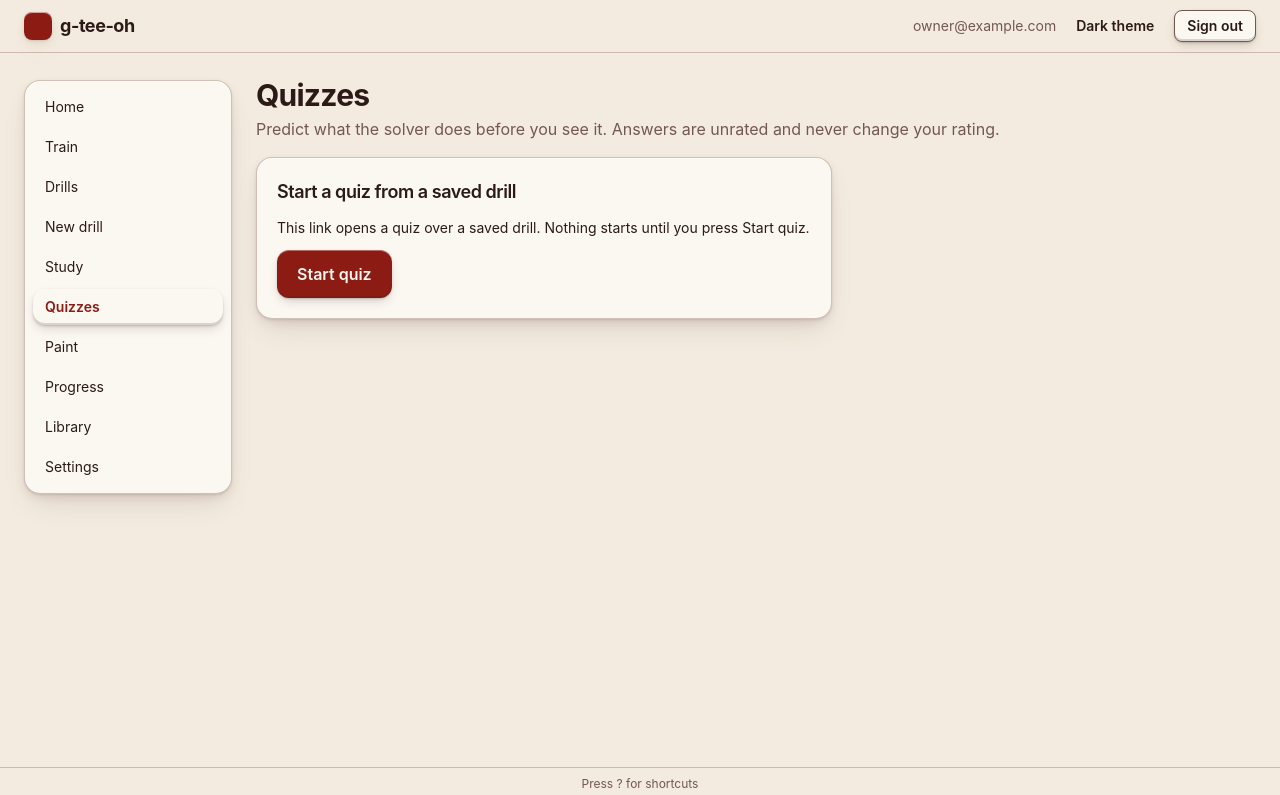
R3.16 /quiz renders each answer kind › R3.16 regions: one checkbox per region; a regions answer is complete, so the reason alone gates Submit
Click the button "Start quiz". click: (334, 274)
box: [277,250,392,298]
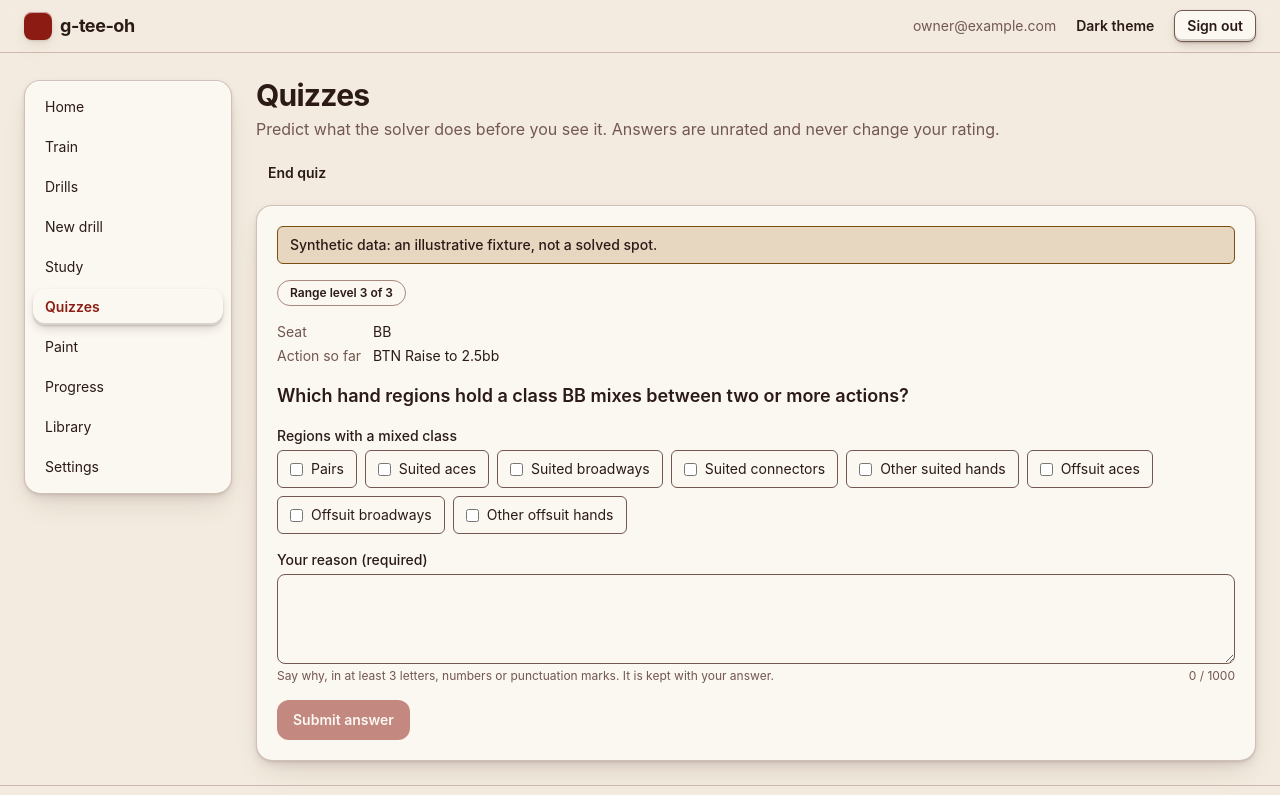
Check: the number of checkboxes is 8
Check: the checkbox labelled "Suited connectors" is not checked, box [684,462,697,476]
Check: the button "Submit answer" is disabled, box [277,700,410,740]
Type "Facing a small open, the price is good." into the text box labelled "Your reason (required)". click: (756, 619)
box: [277,574,1235,664]
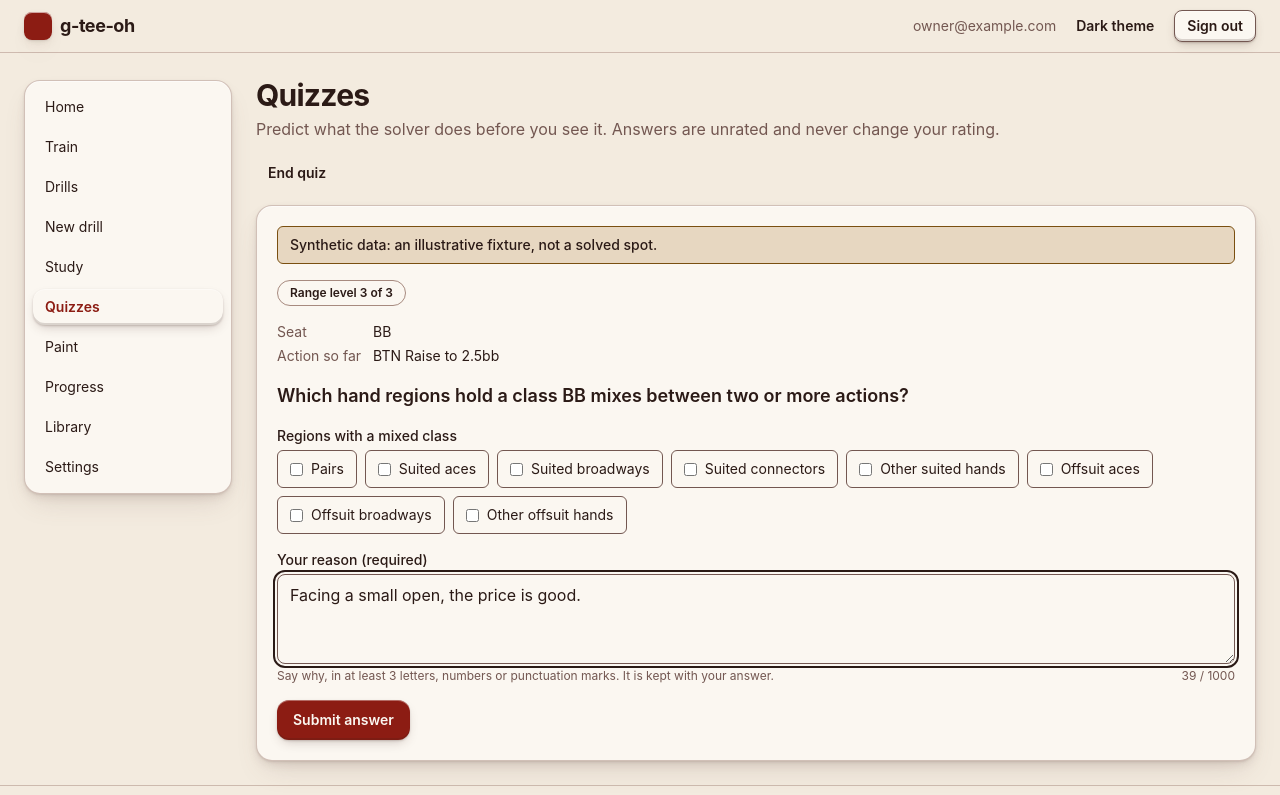
Check: the button "Submit answer" is enabled, box [277,700,410,740]
